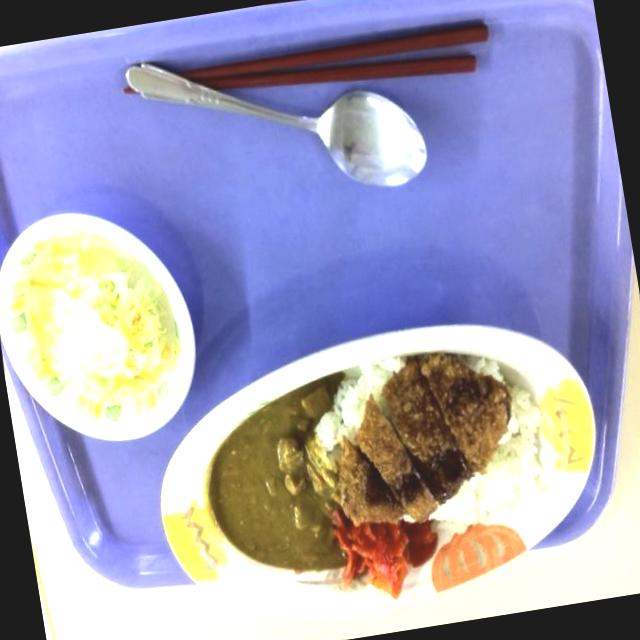Green Salad: (0, 219, 185, 438)
